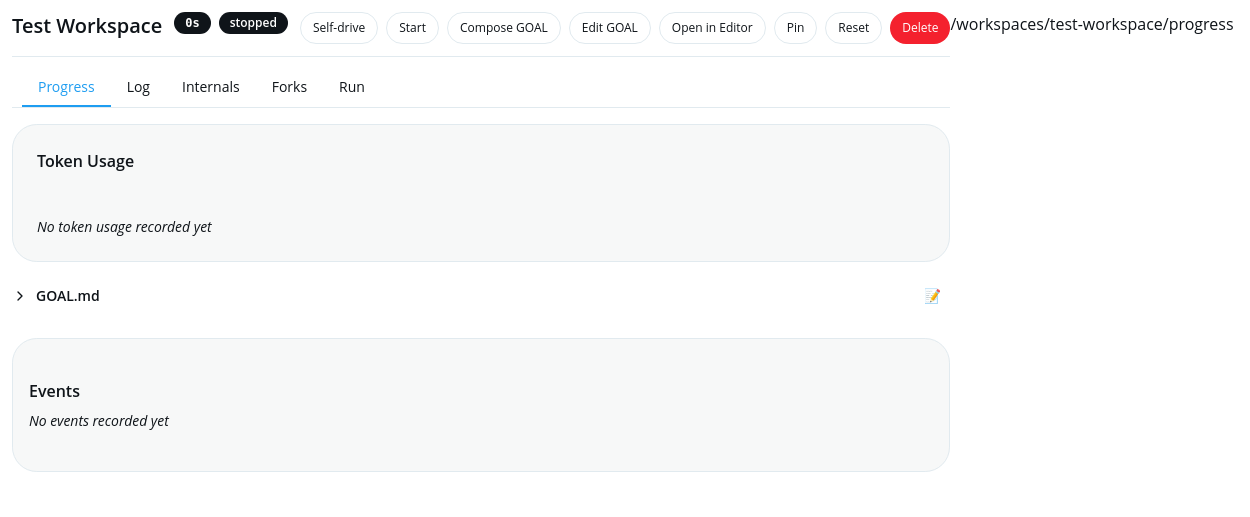
Test: WorkspaceDetail › Open Editor functionality › shows error when openEditor fails
Click the button "Open in Editor". click: (712, 28)
box: [659, 12, 766, 44]
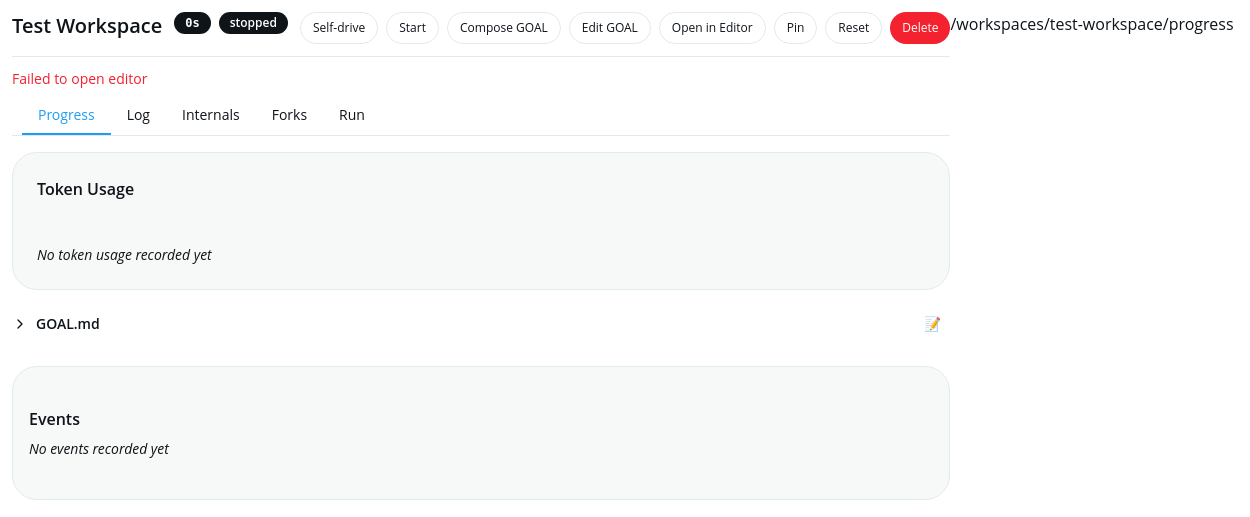
Expected: the text "Failed to open editor" is shown, [12, 69, 147, 88]
